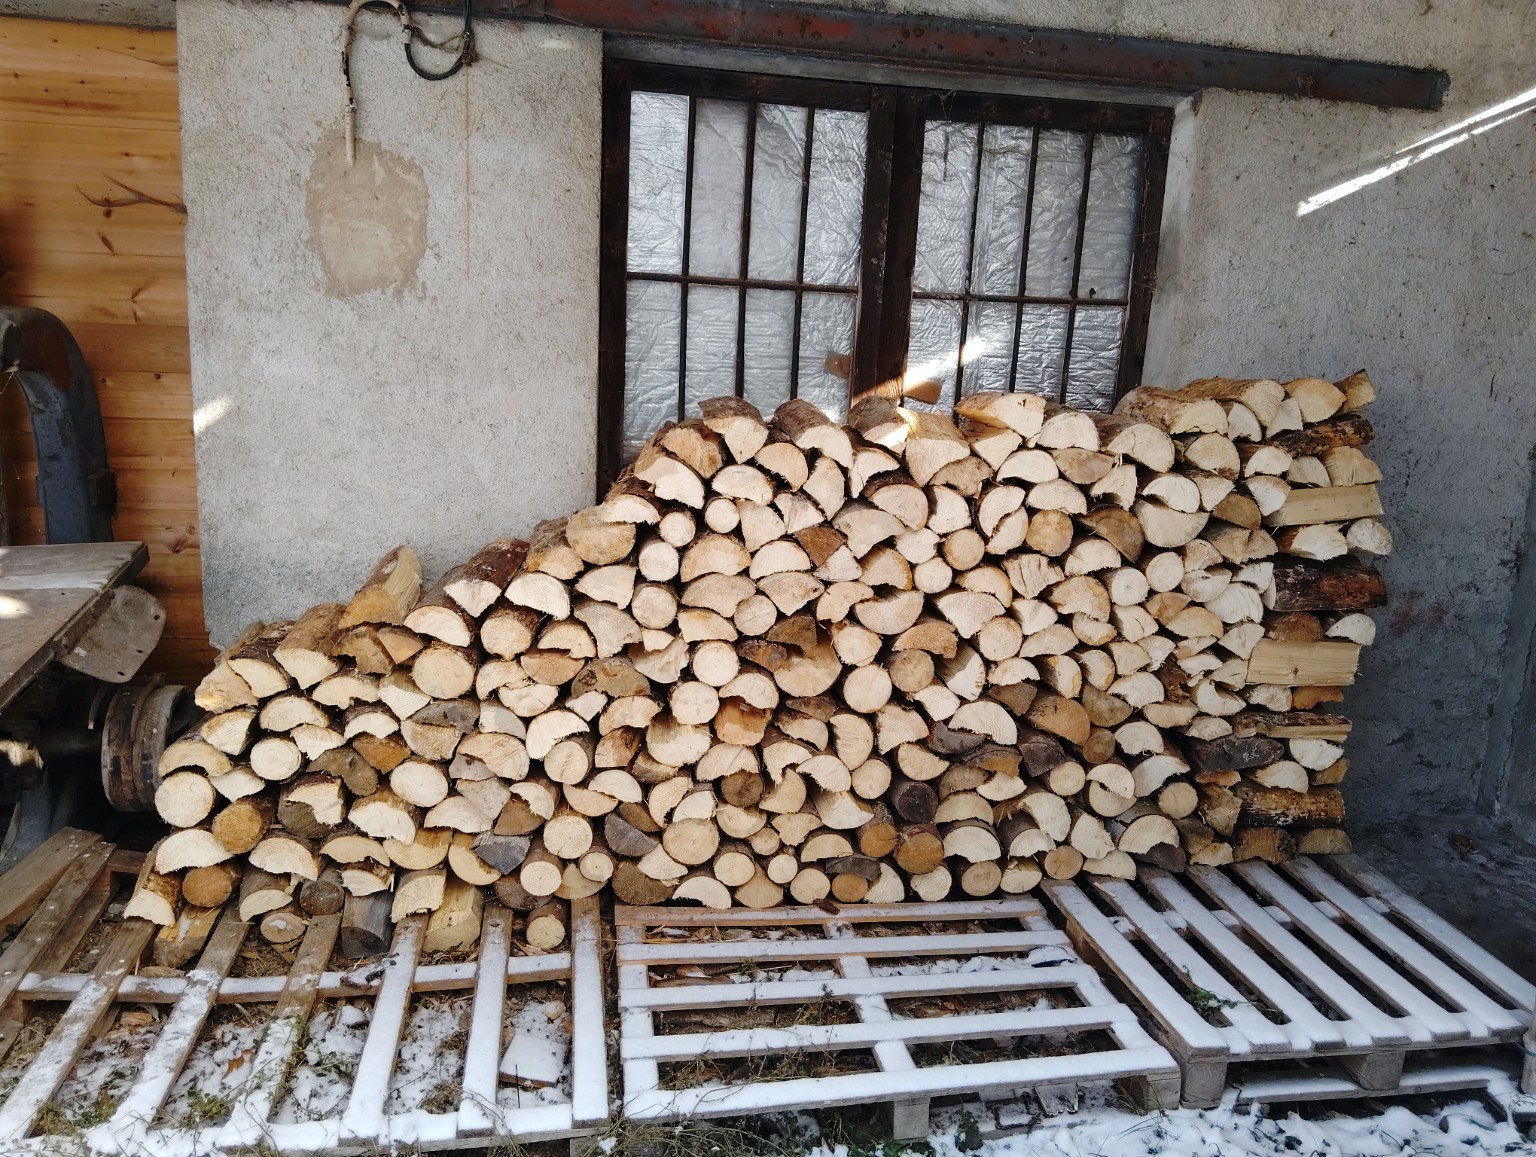bûche: (831, 503, 908, 561), (981, 389, 1047, 447), (702, 413, 772, 469), (564, 521, 640, 568), (750, 537, 814, 582), (791, 520, 847, 566), (811, 544, 866, 581), (702, 495, 742, 536), (657, 512, 696, 547)
